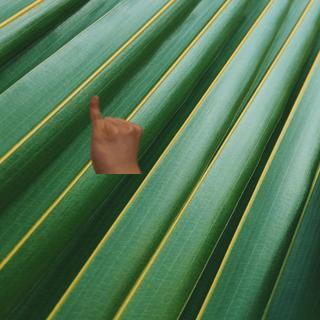FINE: (87, 93, 145, 172)
